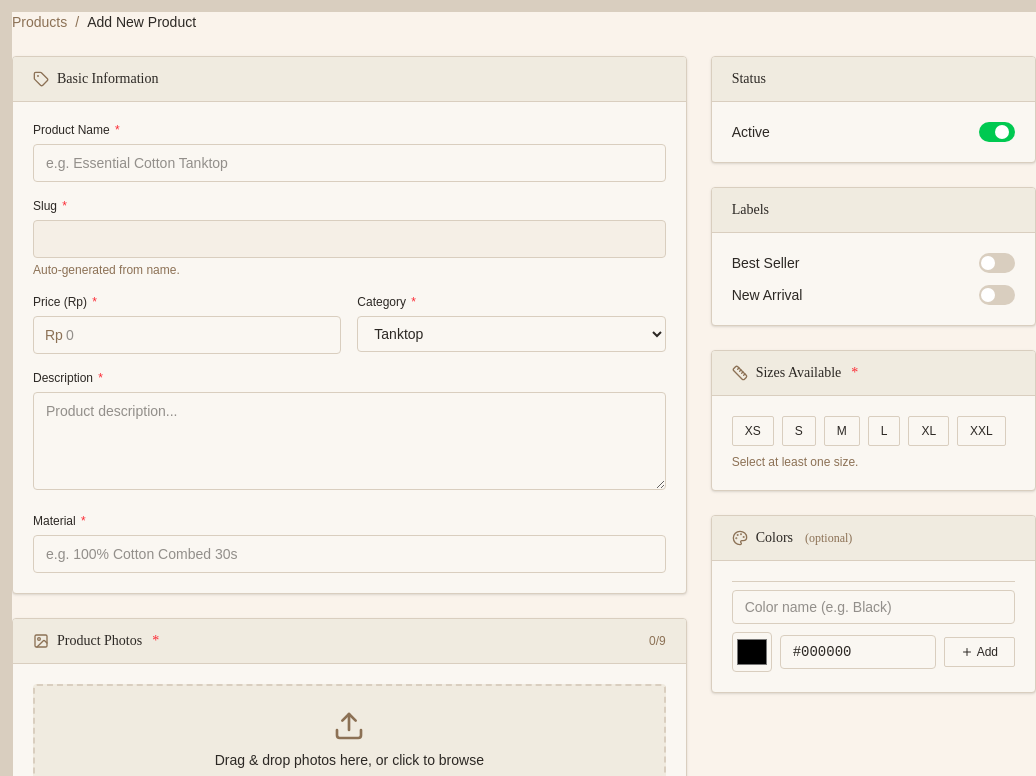
Test: ProductForm › Add mode (no product prop) › toggles active status
Check: the text "Active" is shown, box [732,122,770,142]
// Toggle off
Click the button without text in the row of "Active" at {"x": 997, "y": 132}, box [979,122,1015,142]
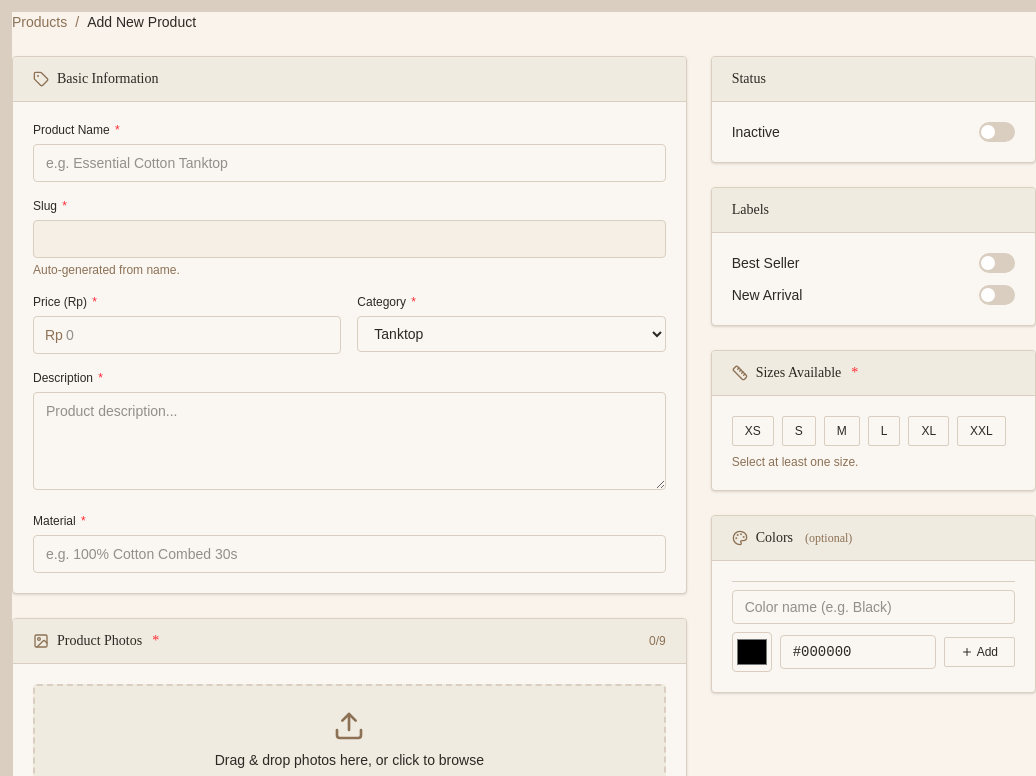
Check: the text "Inactive" is shown, box [732,122,780,142]
